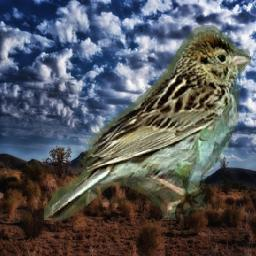Sparrow: (45, 26, 252, 221)
